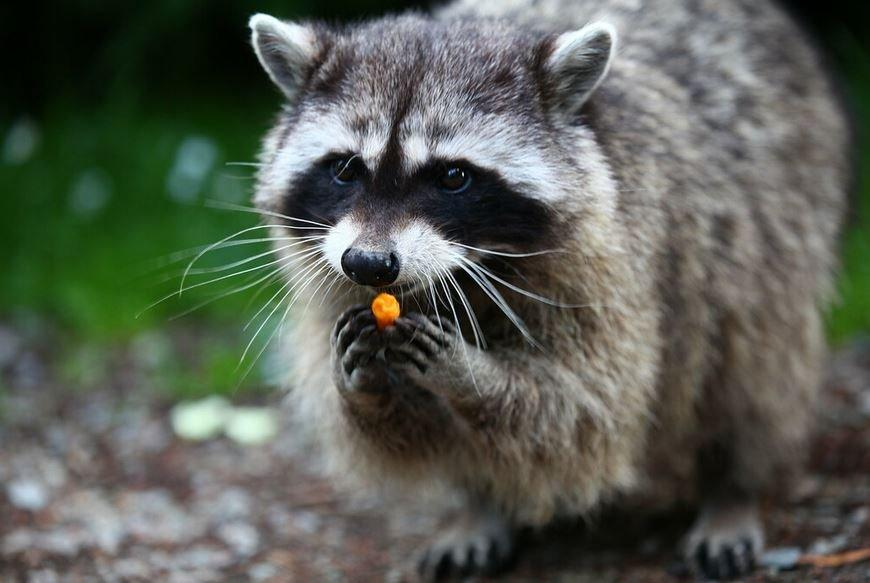raccoon: (246, 3, 870, 583)
